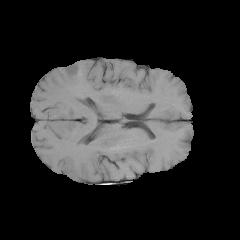glioma: (54, 62, 83, 85)
